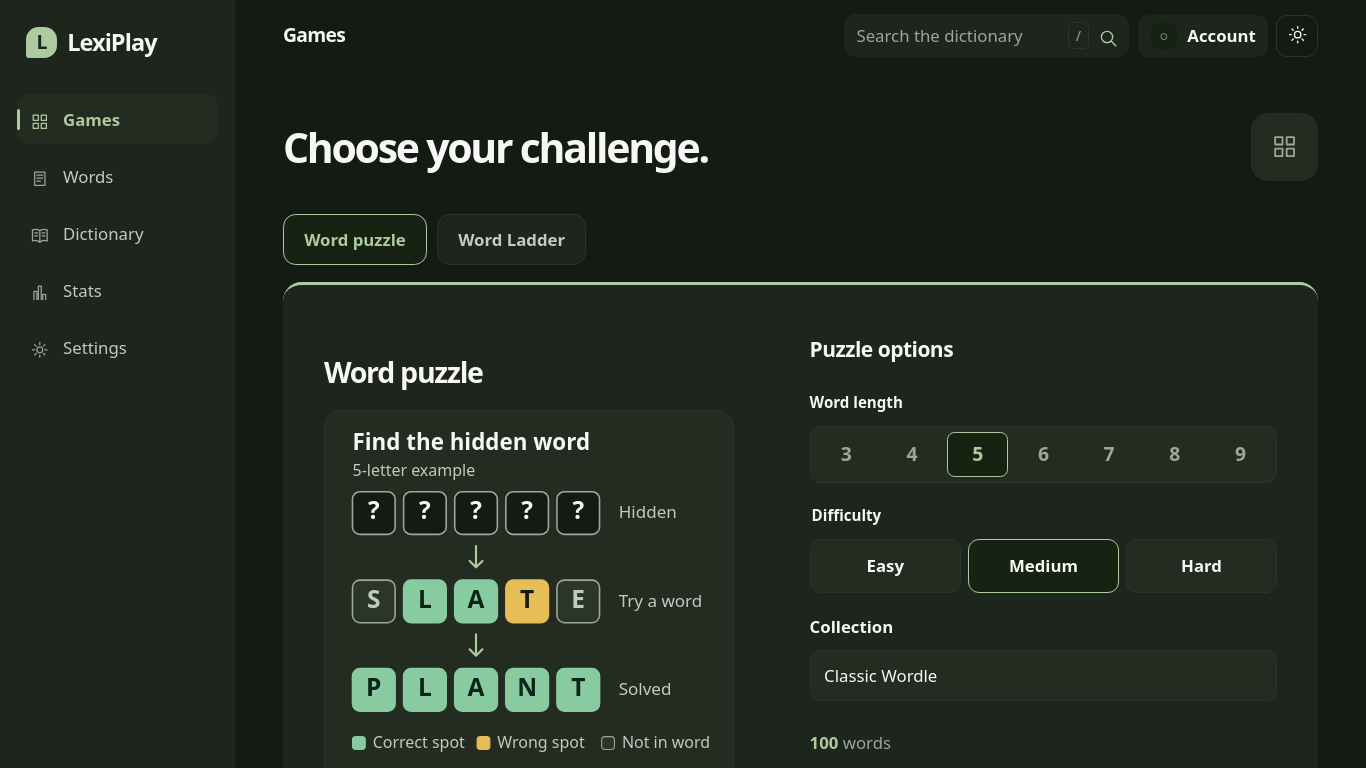
Test case: saved practice and account updates › requests password recovery without disclosing whether an account exists
Click the text "Account" at (1222, 36), box 1187,23 -> 1256,48
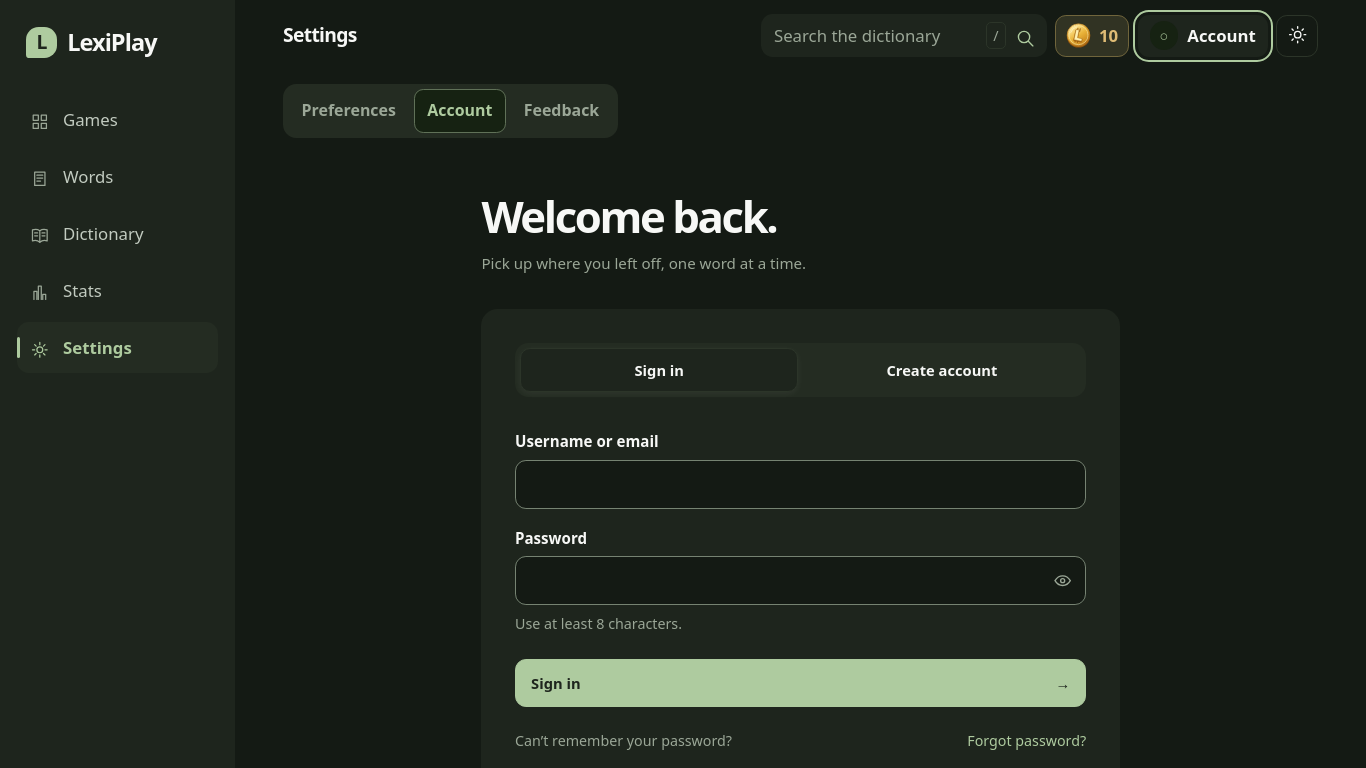
Click the button "Forgot password?" at (1027, 740), box 967,722 -> 1086,758
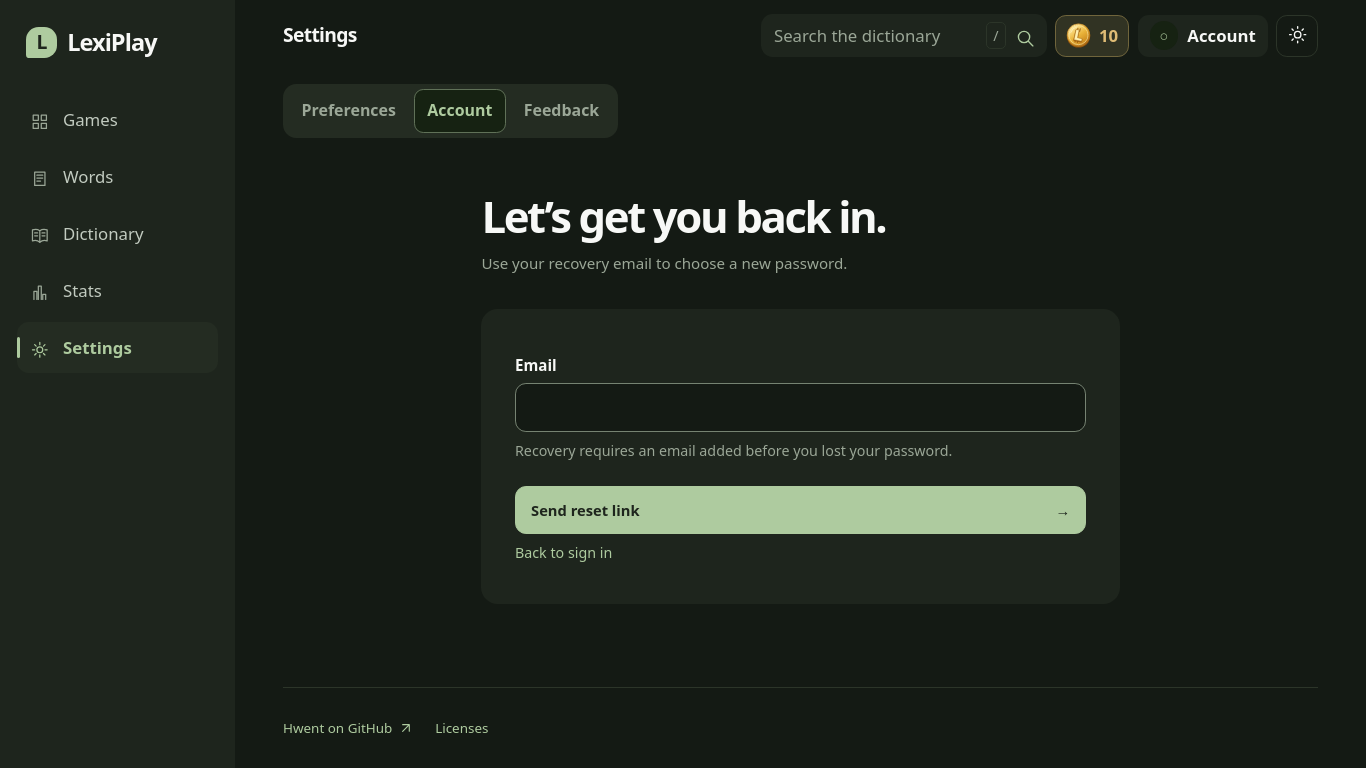
Type "learner@example.test" into the field labelled "Email" at (801, 408), box 515,383 -> 1086,432
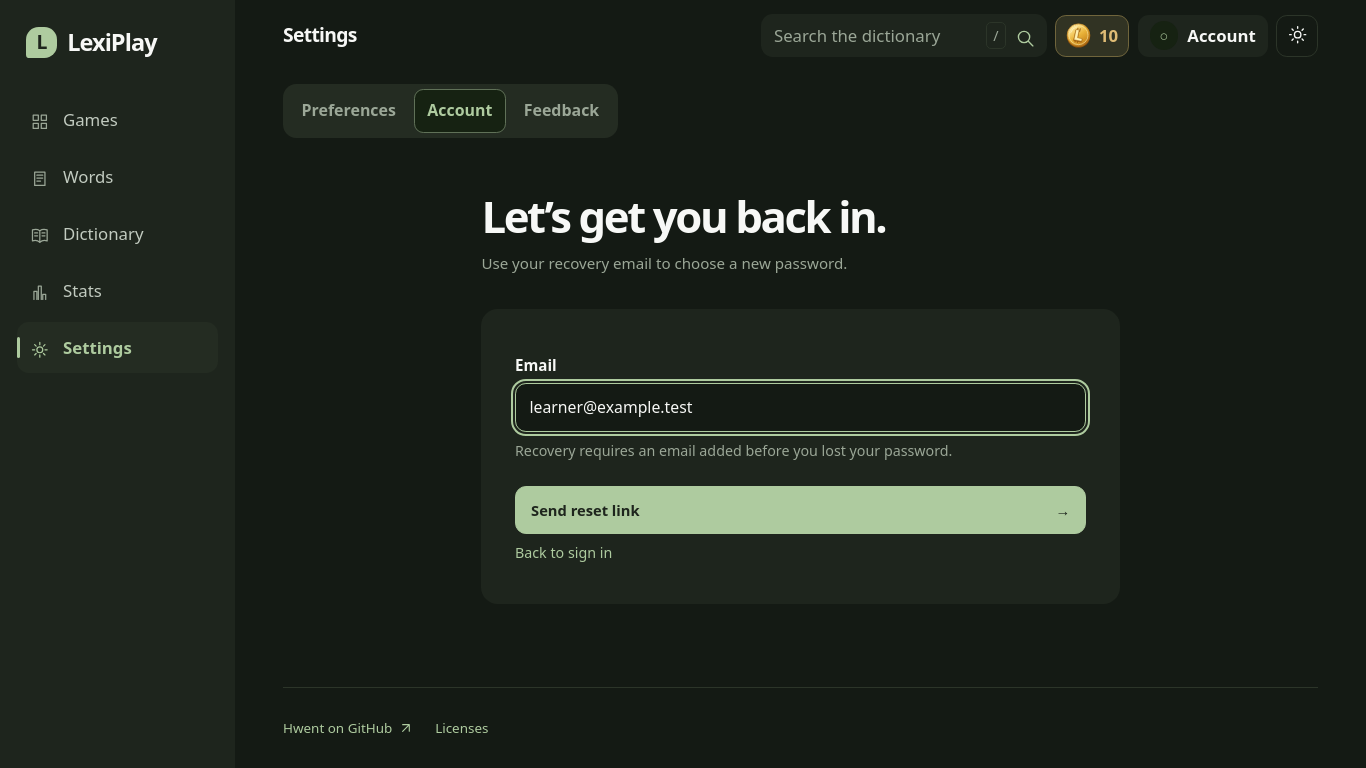
Click the button "Send reset link →" at (585, 510), box 515,486 -> 1086,534
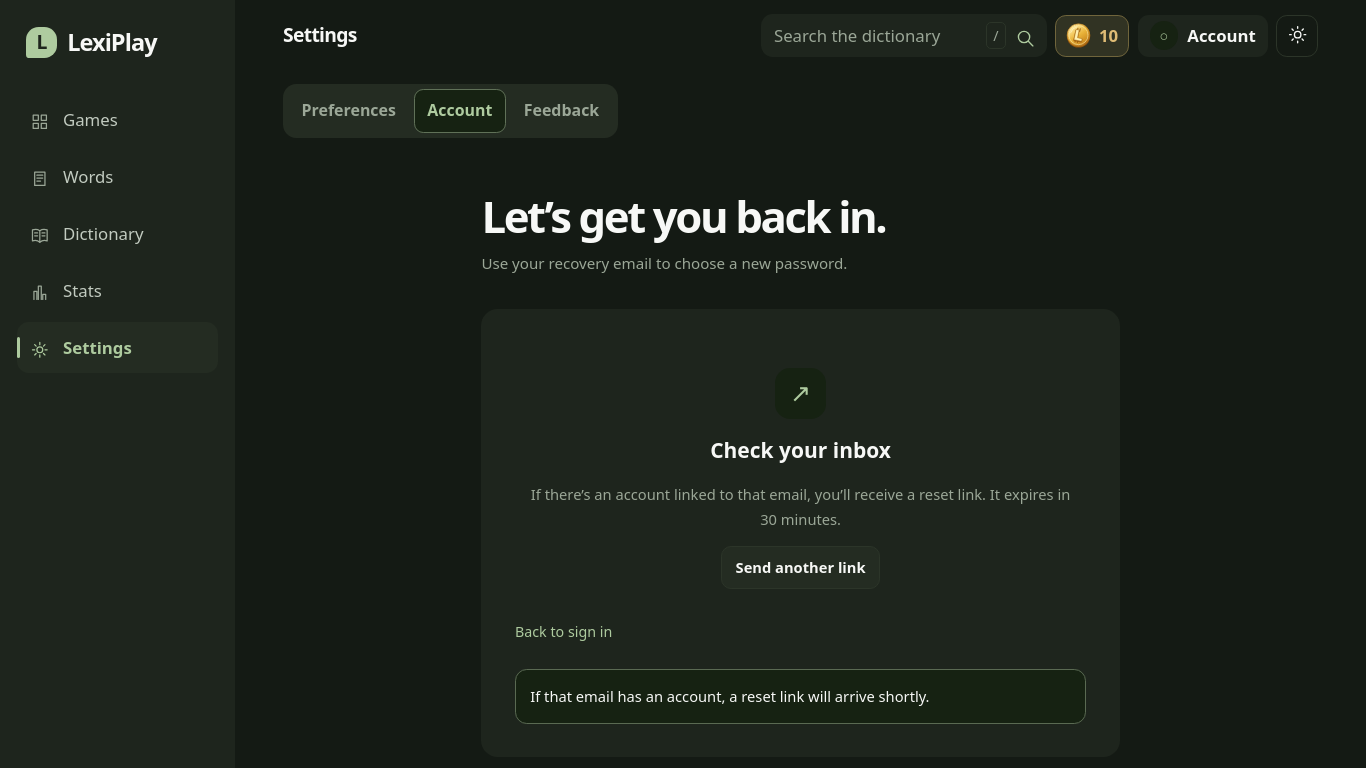
Expected: the message shows "If that email has an account", 530,686 -> 930,706
